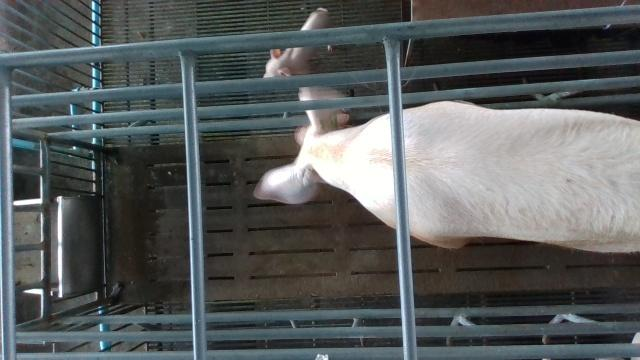piglet: (264, 6, 333, 77)
sow-stand: (253, 86, 640, 253)
